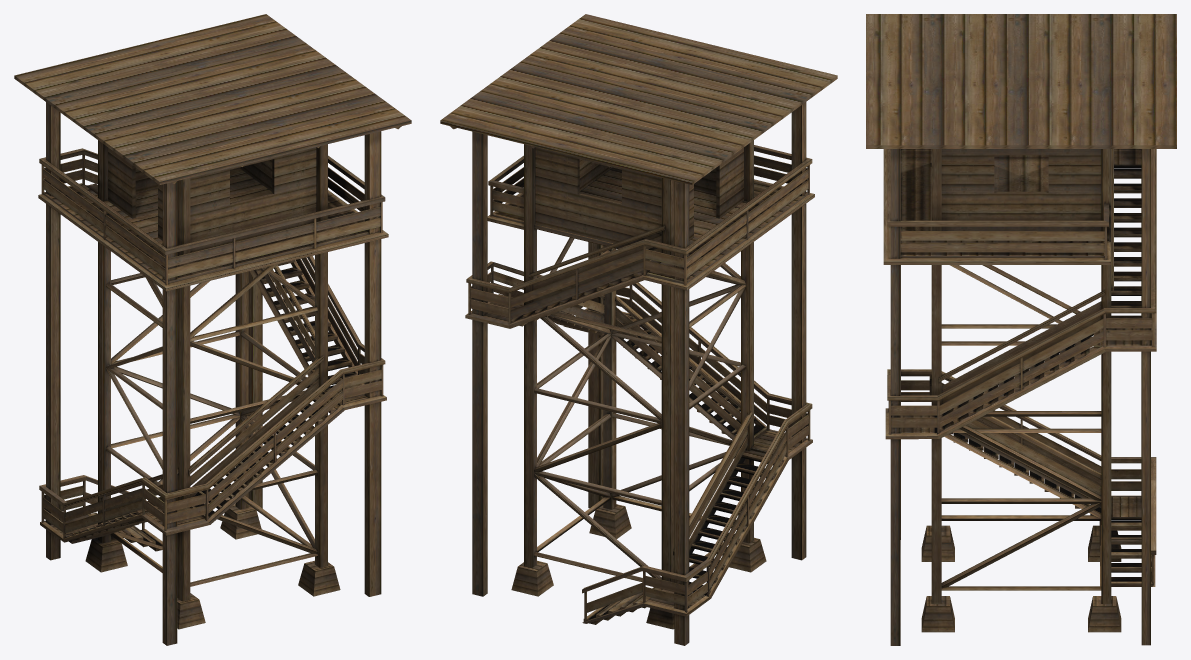
File: WatchTower.glb
The picture shows the model from 3 angles, left to right: view 1: azimuth 30°, elevation 25°; view 2: azimuth 150°, elevation 25°; view 3: azimuth 270°, elevation 25°; orthographic projection. The views are drawn at different scales.
Visible parts, largest first — view 1: watchtowerHigh; view 2: watchtowerHigh; view 3: watchtowerHigh.
Part boxes in pixels (bbox=[...]): watchtowerHigh: bbox=[14, 14, 411, 645]; watchtowerHigh: bbox=[440, 14, 837, 645]; watchtowerHigh: bbox=[866, 14, 1176, 645].
Size of the model in its own units: 4.22 by 7.65 by 4.22.
Materials: 1 (1 with a texture image).
